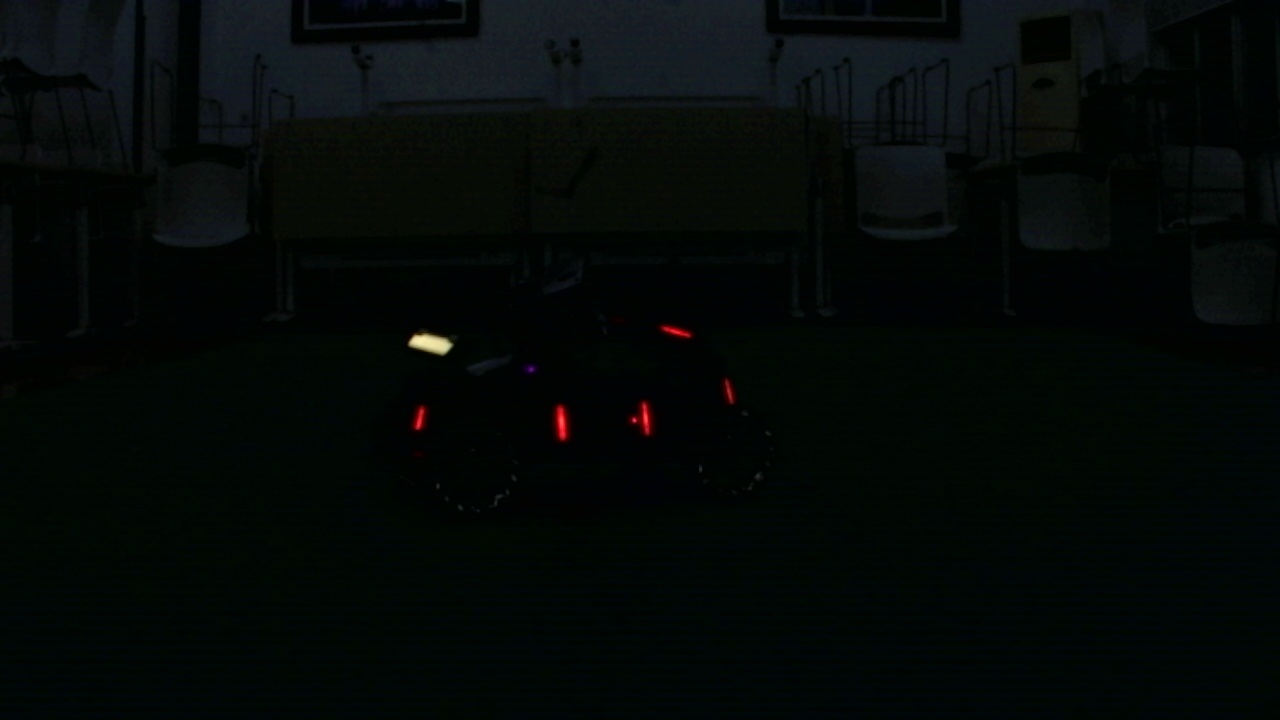lamp: (721, 373, 738, 413), (413, 397, 429, 438), (637, 398, 652, 440), (555, 404, 565, 444)
pair1: (555, 402, 650, 440)
